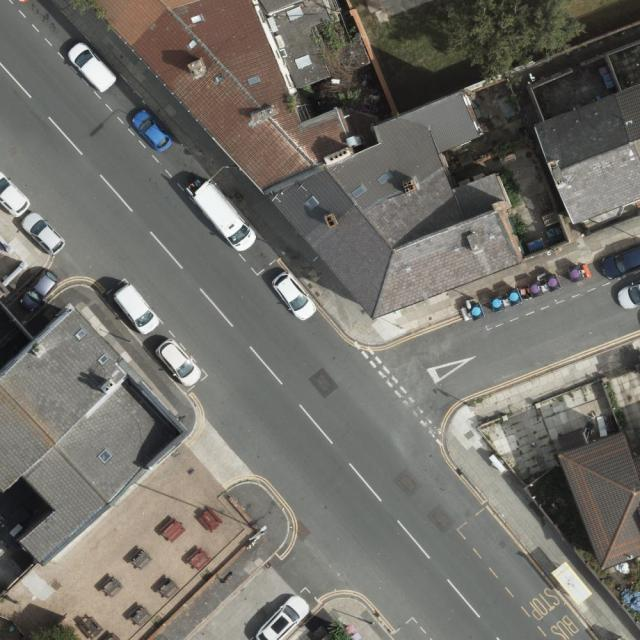roof: (82, 0, 521, 321), (0, 306, 191, 568), (532, 84, 640, 226), (558, 431, 640, 573)
skylight: (287, 4, 305, 22), (97, 448, 114, 464), (295, 55, 312, 70), (304, 196, 320, 211), (97, 353, 111, 368), (352, 184, 367, 198), (379, 171, 393, 186), (186, 38, 199, 51), (73, 329, 87, 341), (191, 13, 204, 25), (247, 75, 260, 85)
